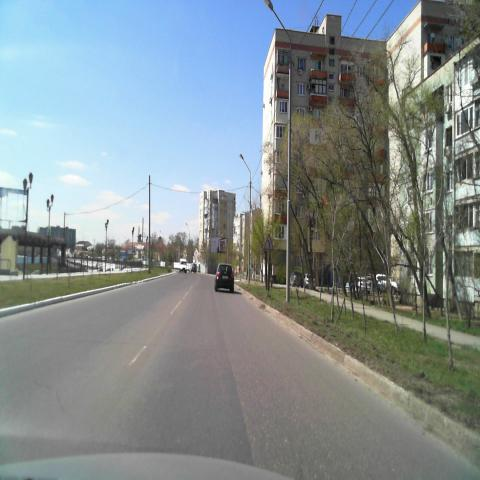1_11_1: (264, 233, 274, 250)
